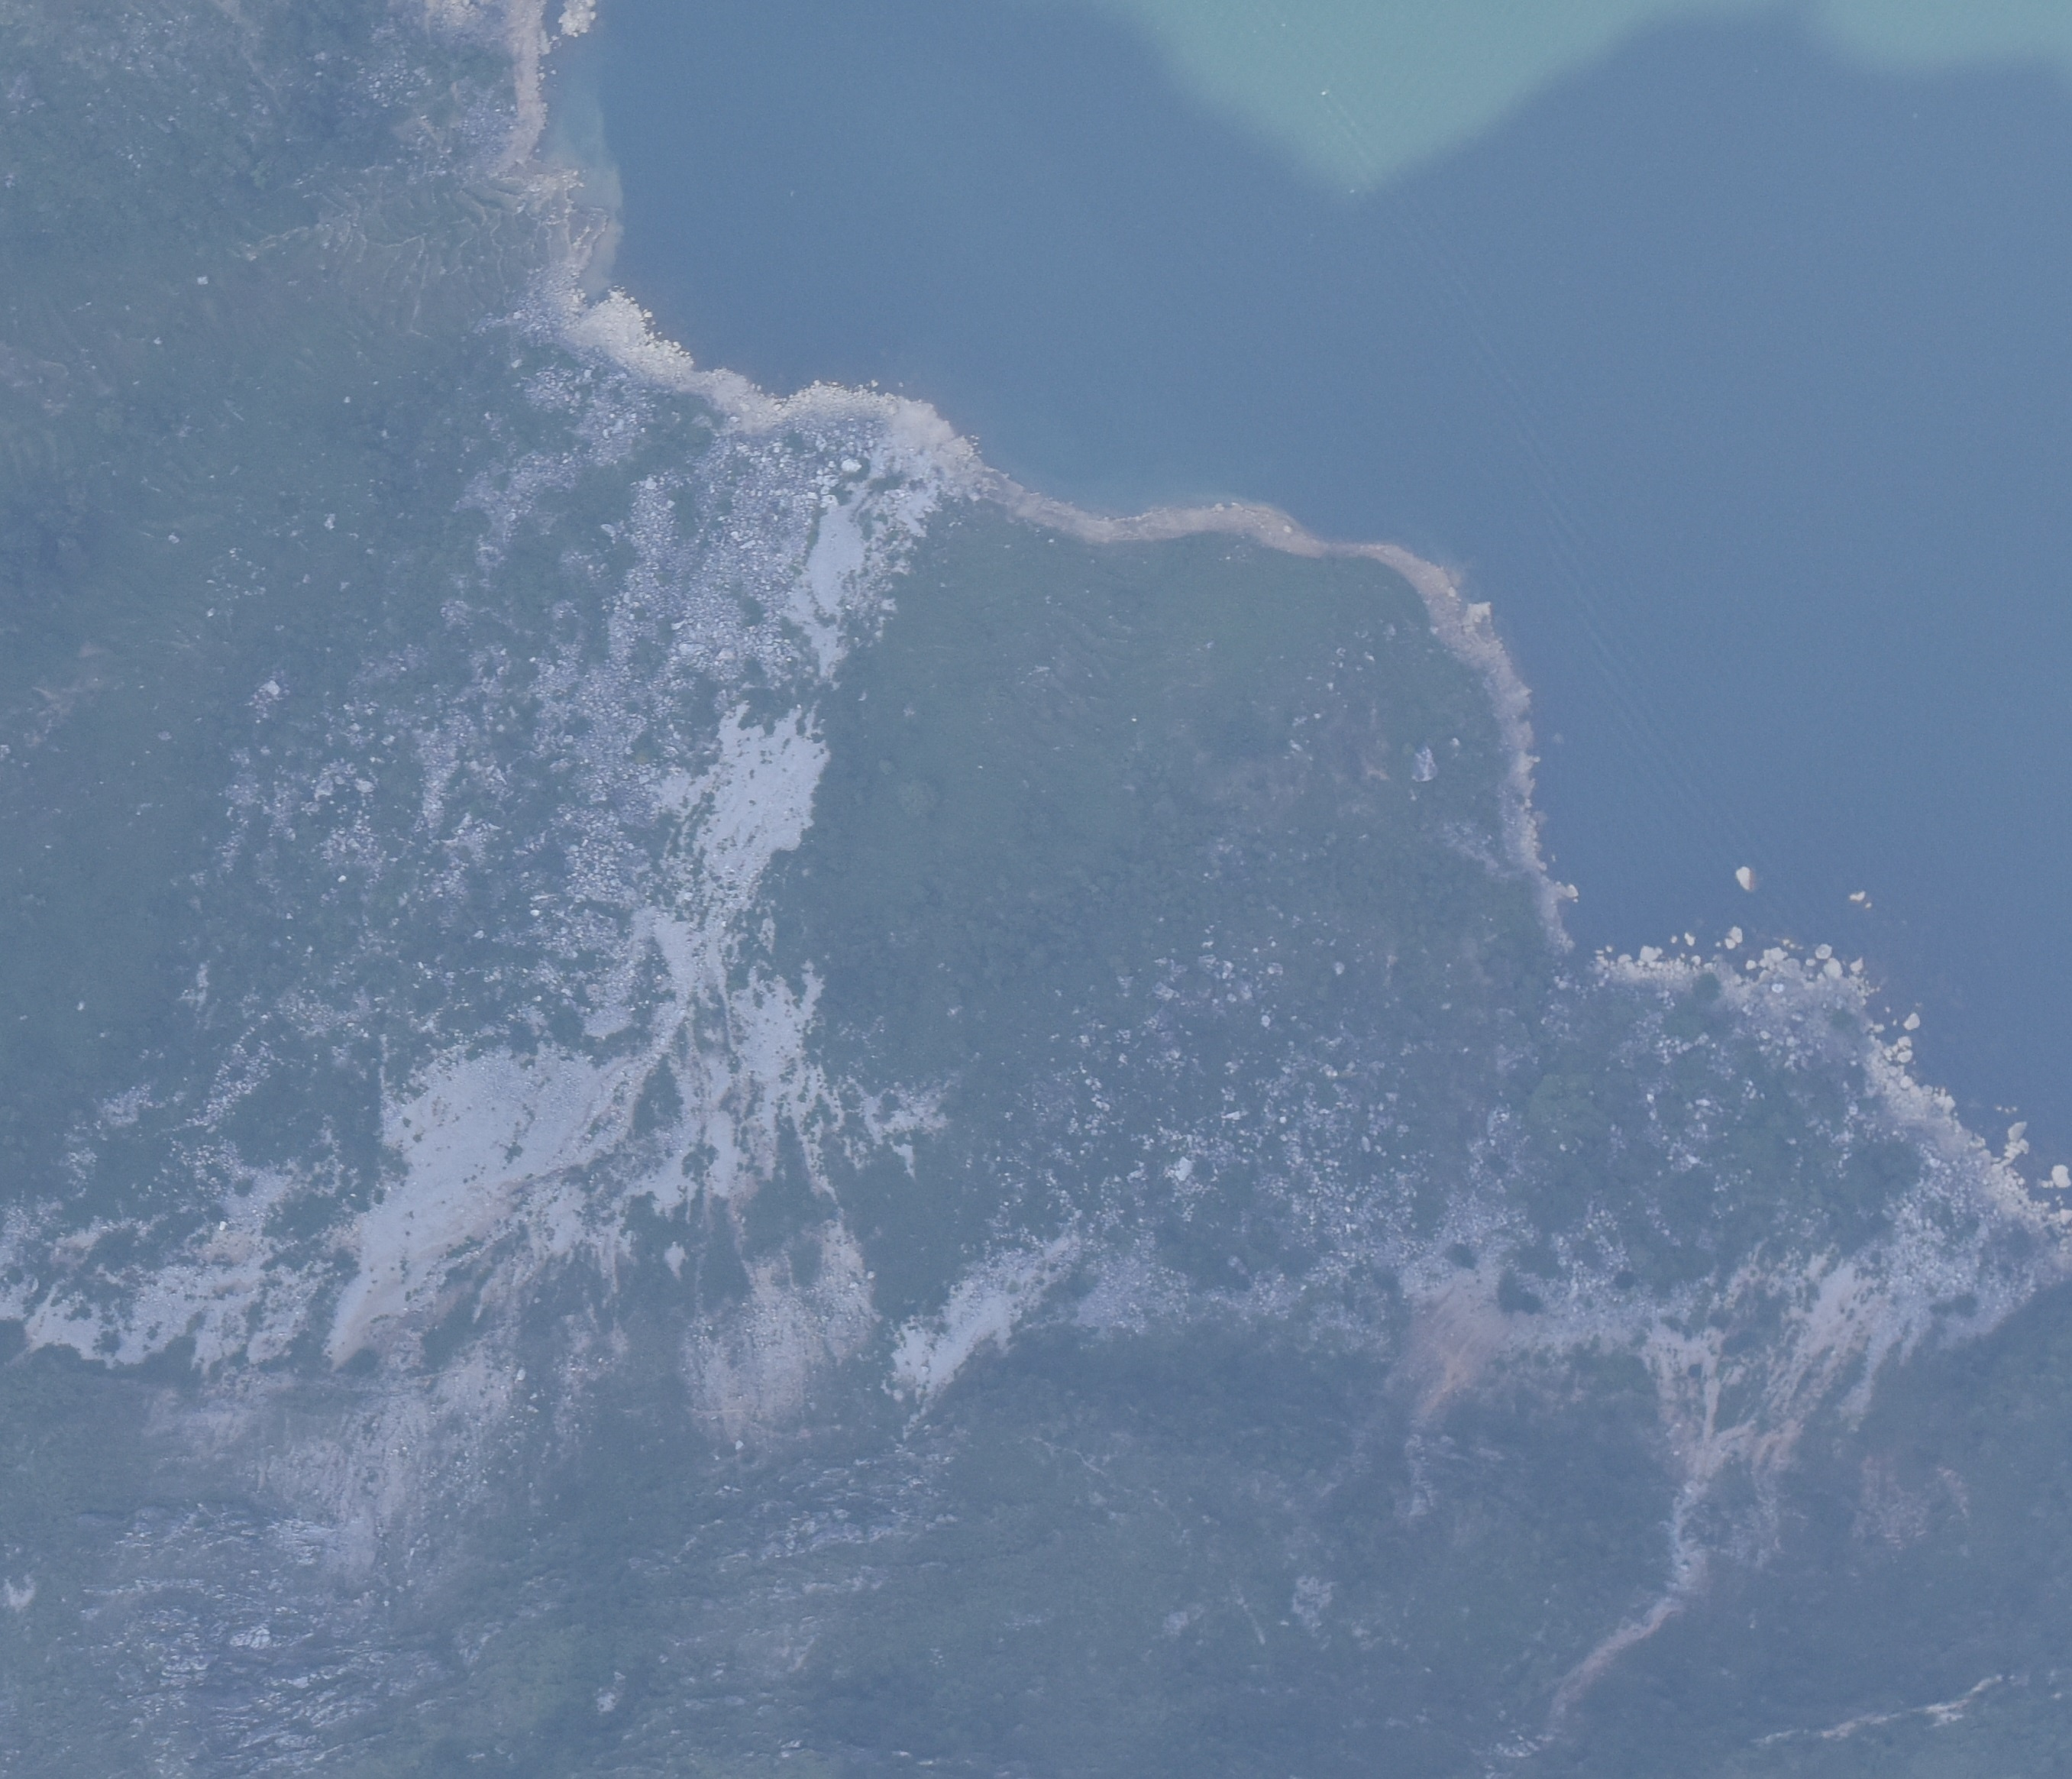landslide: (18, 312, 1124, 1632), (1385, 969, 2072, 1488)
